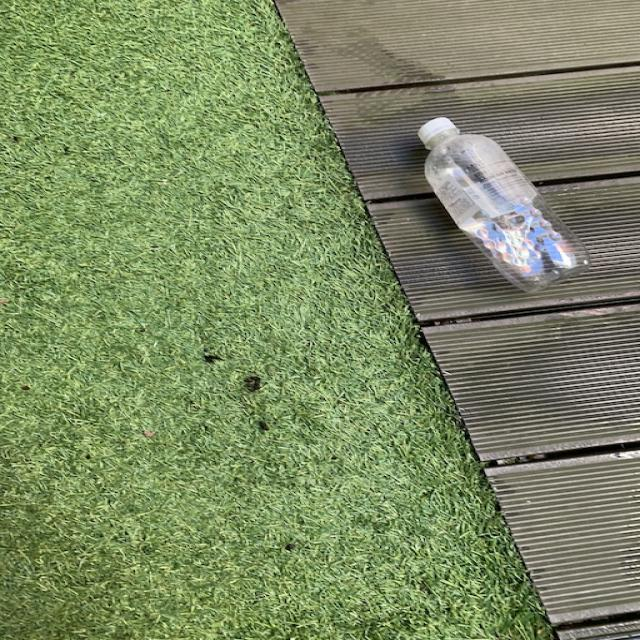Waste: (419, 118, 591, 292)
